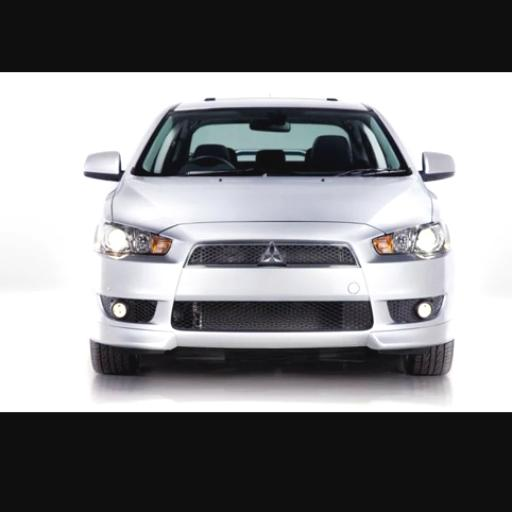sedan: (86, 98, 456, 374)
